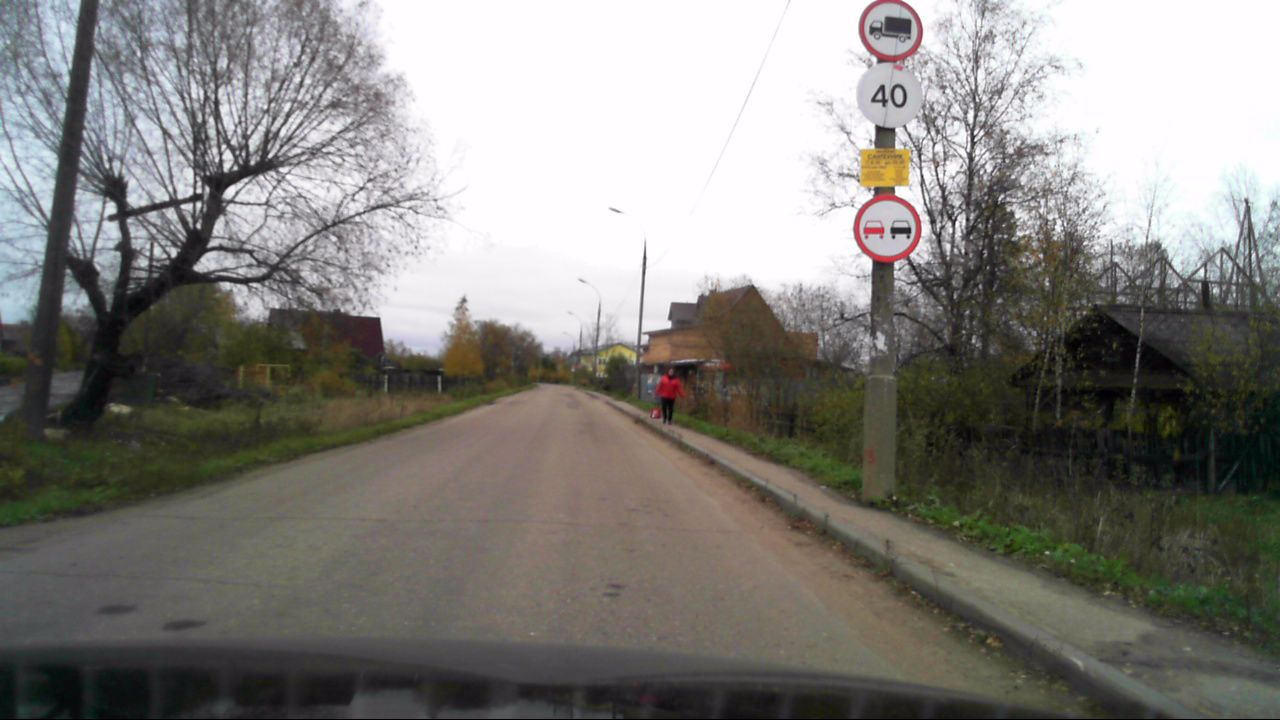speed_warning_40: (855, 62, 924, 131)
